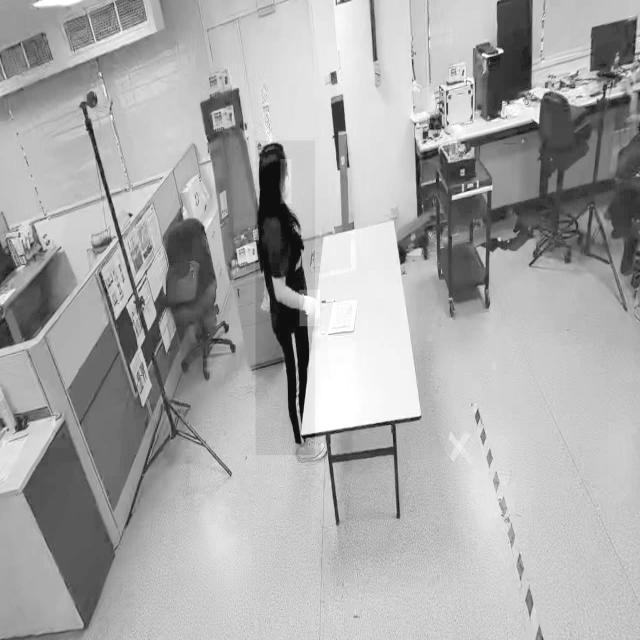face_mask: (280, 159, 292, 204)
hand_glove: (299, 290, 320, 327)
head_nohelmet: (259, 140, 287, 162)
person: (255, 140, 315, 456)
shoes: (294, 430, 328, 464)
